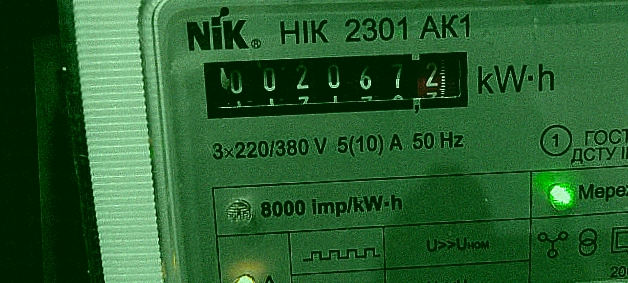0: (225, 66, 244, 96), (322, 59, 341, 88), (259, 62, 277, 92)
2: (421, 58, 440, 88), (292, 61, 310, 90)
6: (355, 61, 374, 91)
7: (388, 59, 405, 90)
screen: (188, 36, 484, 131)
